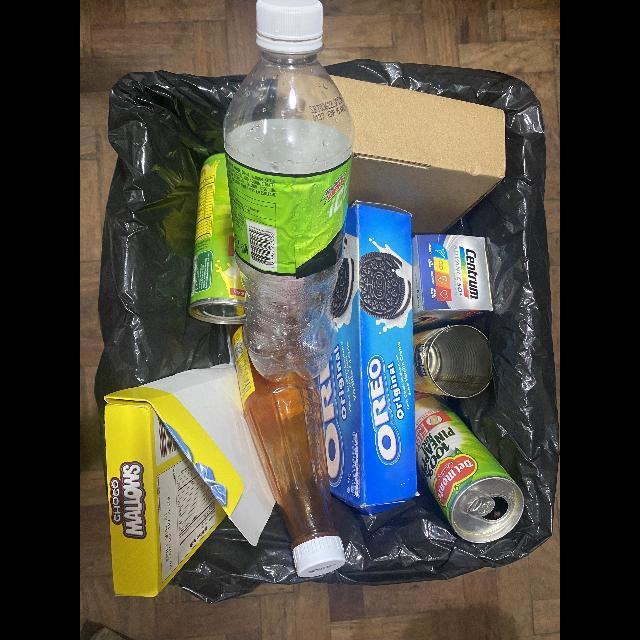glass: (228, 324, 346, 577)
metal: (415, 390, 524, 543), (189, 152, 248, 324)
paper: (103, 363, 276, 597), (315, 200, 417, 515), (326, 73, 505, 235), (412, 235, 493, 333)
plastic: (223, 0, 355, 383)
